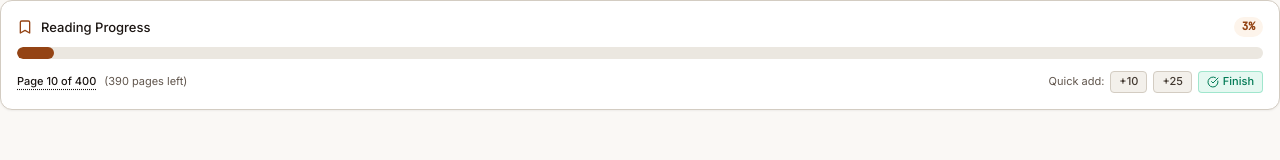
Scenario: ReadingProgressBar › saves a manually entered page number
Click the button "Page 10 of 400" at [57, 82], box [17, 74, 96, 90]
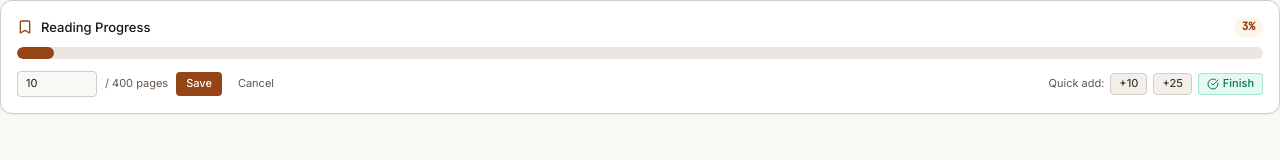
Replace the text in the number field named "Current Page" with "200" at [57, 84], box [17, 71, 97, 97]
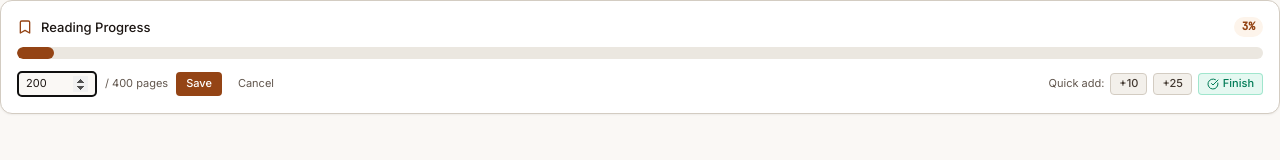
Click the button "Save" at [199, 84], box [176, 72, 222, 96]
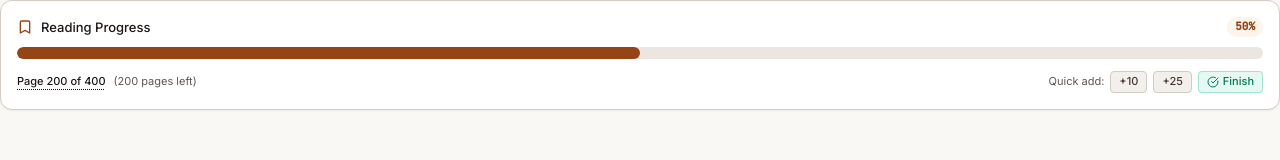
Check: the button "Page 200 of 400" is shown, box [17, 74, 106, 90]
